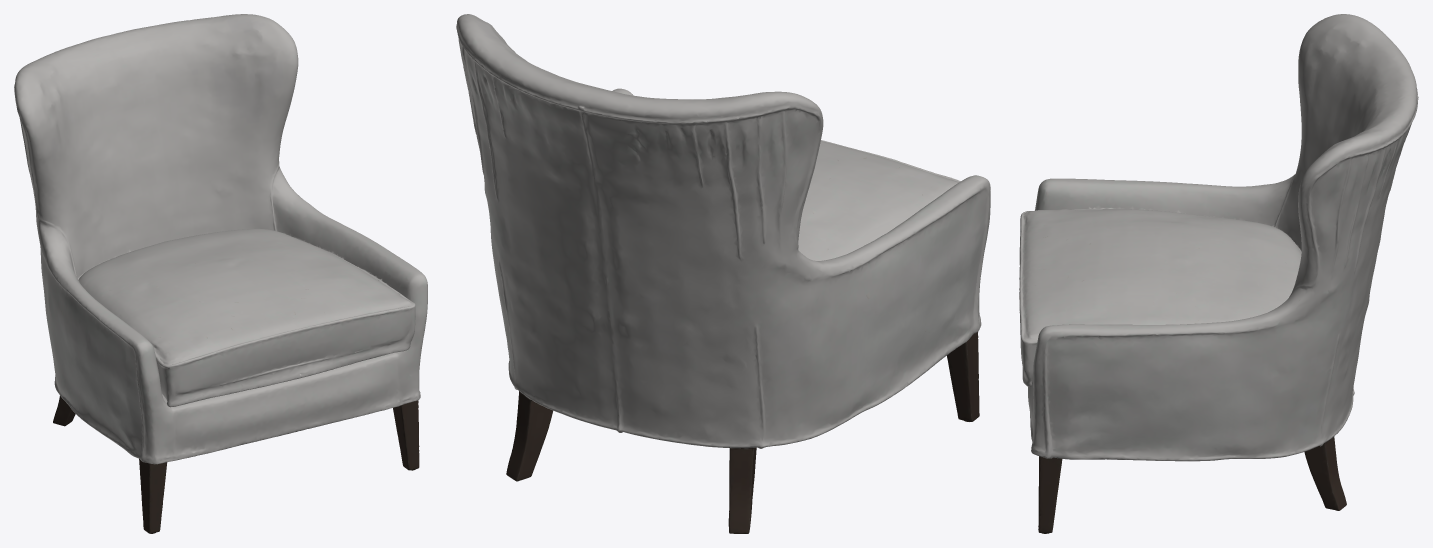
Rendered from armchair.glb.
The picture shows the model from 3 angles, left to right: view 1: azimuth 30°, elevation 25°; view 2: azimuth 150°, elevation 25°; view 3: azimuth 270°, elevation 25°; orthographic projection. The views are drawn at different scales.
Visible parts, largest first — view 1: world; view 2: world; view 3: world.
Boxes of the visible parts, x1,y1,x2,y2 form: world: (14,14,427,533); world: (456,14,990,533); world: (1019,14,1418,533).
Size of the model in its own units: 0.8645 by 1 by 0.9407.
Materials: 1 (1 with a texture image).
